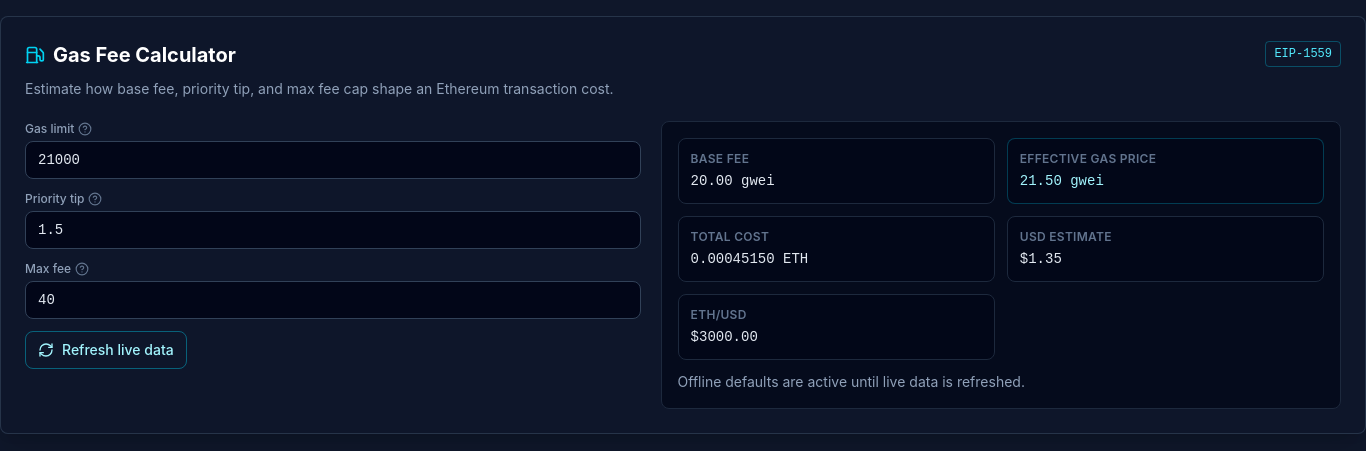
Test: GasFeeCalculator › refreshes live base fee and ETH price when data sources respond
This screenshot has width=1366, height=451.
Step 1. Click the button "Refresh live data" → [106, 350], box [25,331,187,369]
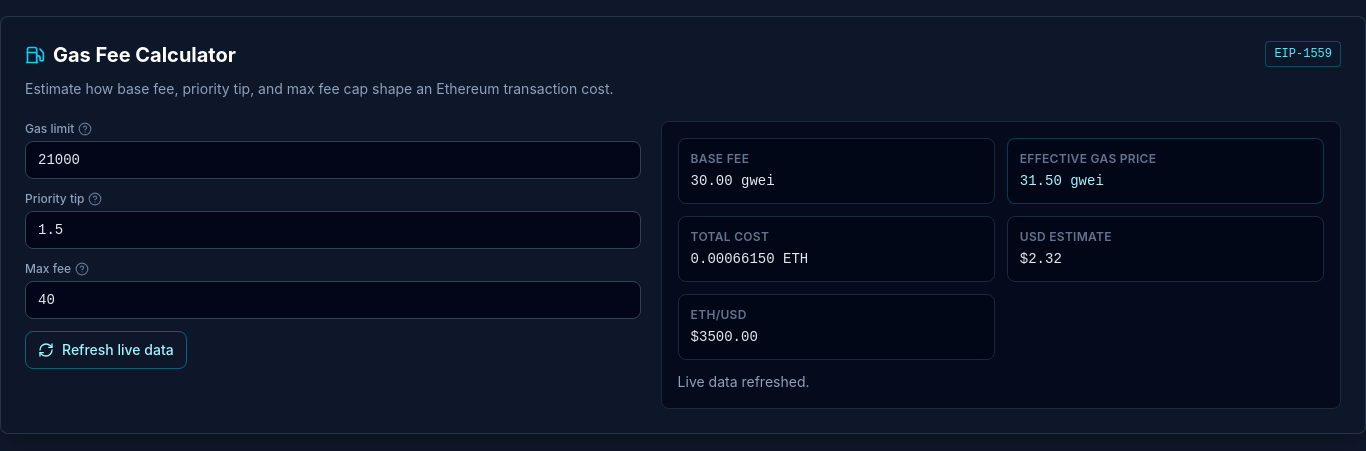
expect the text "30.00 gwei" is shown: met, box [691,173,775,189]
expect the text "$2.32" is shown: met, box [1020,251,1062,267]
expect the text "Live data refreshed." is shown: met, box [678,373,810,390]
